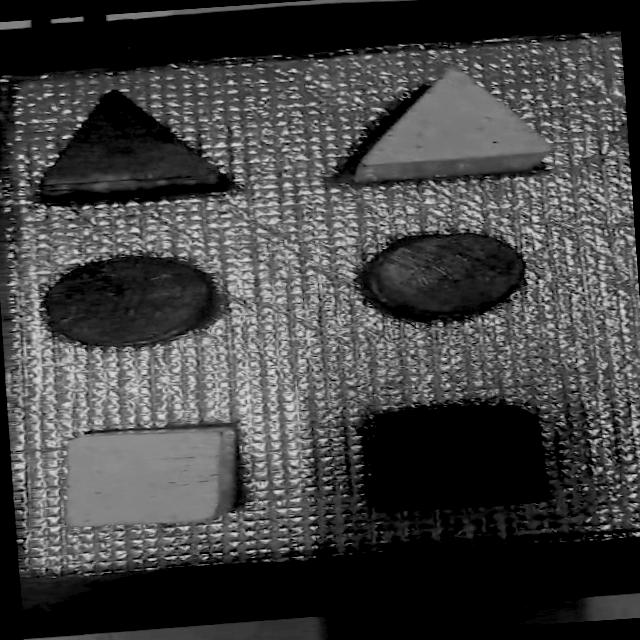bcircle: (36, 234, 257, 362)
rcircle: (357, 225, 531, 327)
rtriangle: (4, 82, 232, 207)
ytriangle: (318, 50, 564, 206)
